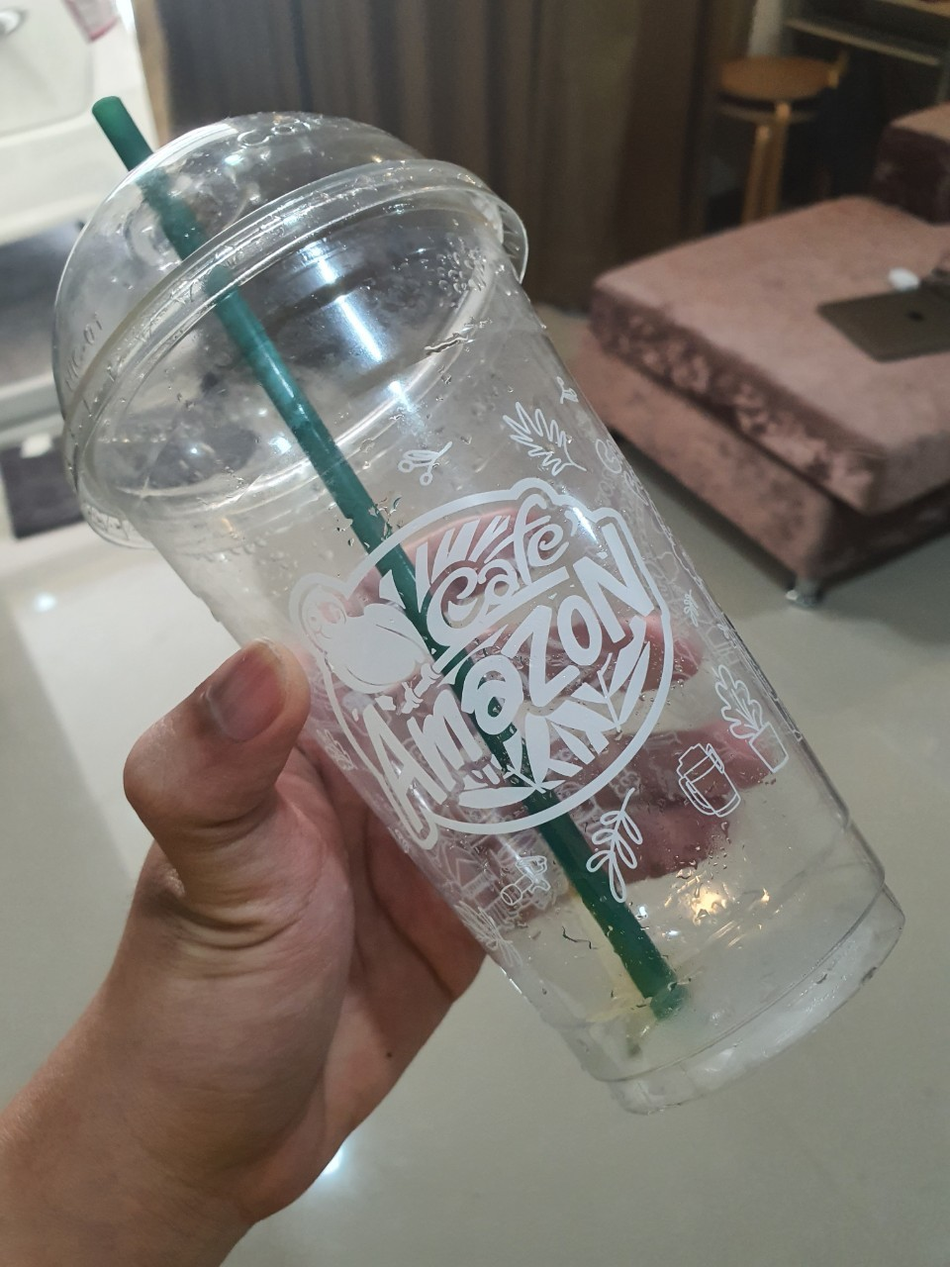plastic: (44, 78, 926, 1117)
